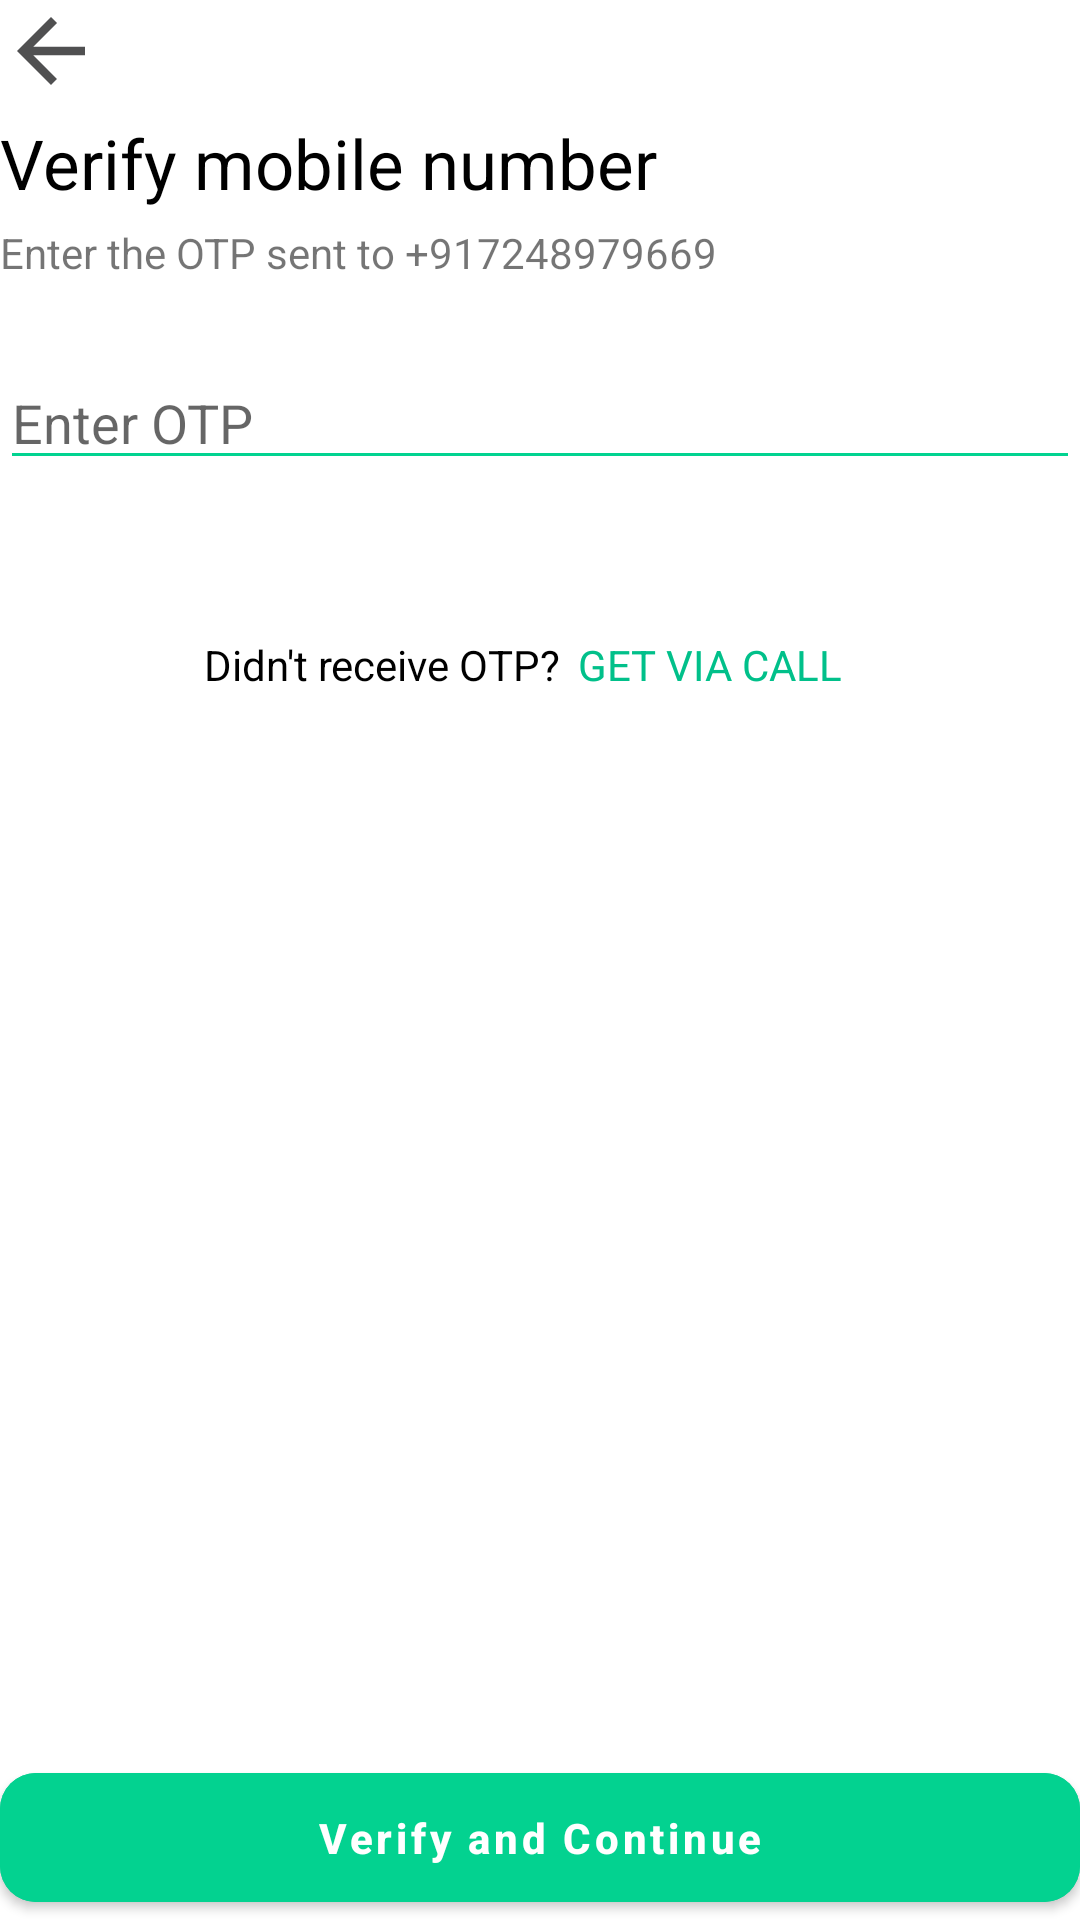

Icons on this 1080 x 1920 Android screen, each with its box as (x1, y1, x2, y2):
back arrow: (17, 17, 85, 85)
